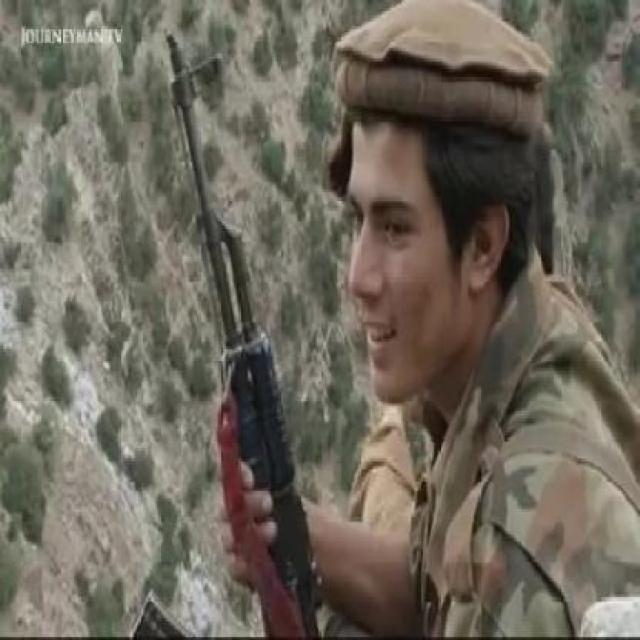Rifle: (143, 6, 319, 628)
